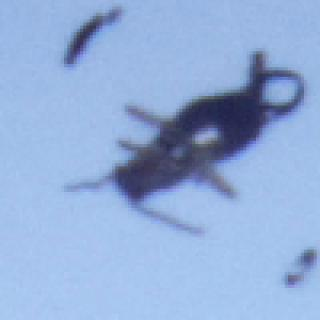earwig: (67, 50, 304, 238)
